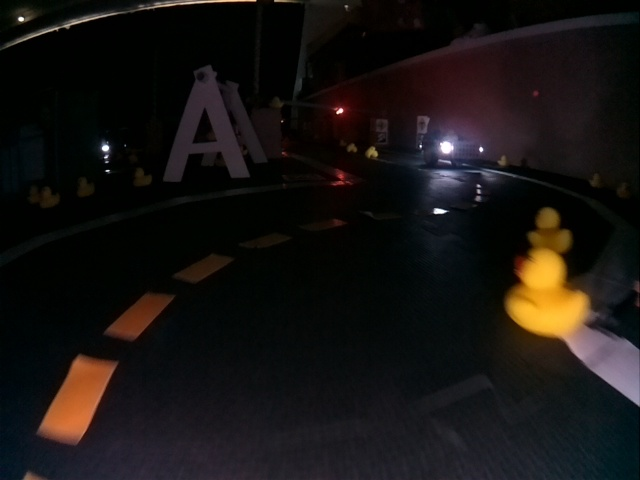Duckie: (504, 251, 589, 336), (528, 207, 573, 256), (40, 188, 58, 206), (133, 170, 151, 186), (76, 179, 92, 195), (365, 146, 378, 158), (590, 172, 600, 187), (346, 143, 359, 150), (498, 156, 508, 164)
Duckiebot: (423, 129, 485, 167)
